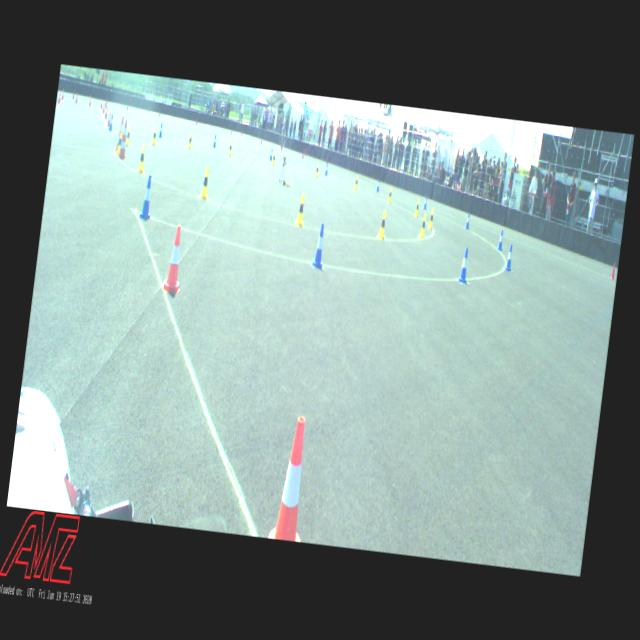blue_cone: (138, 175, 154, 219), (312, 222, 326, 268), (458, 247, 470, 283), (504, 244, 514, 272), (496, 230, 504, 250), (108, 114, 114, 130), (422, 195, 428, 209), (465, 212, 470, 228), (158, 122, 163, 137), (376, 178, 380, 192), (212, 134, 216, 147), (324, 163, 328, 175), (270, 148, 272, 159)
large_orange_cone: (118, 117, 130, 158), (115, 115, 124, 152)
orange_cone: (268, 414, 315, 541), (162, 224, 188, 294), (106, 110, 111, 126), (103, 106, 108, 119), (58, 90, 62, 102), (88, 96, 92, 106), (61, 88, 64, 100), (102, 101, 105, 112), (74, 94, 78, 102), (100, 98, 102, 108)
unknown_cone: (610, 262, 615, 280), (104, 100, 108, 108)
yellow_cone: (295, 194, 306, 226), (200, 167, 210, 199), (137, 144, 147, 174), (378, 210, 387, 239), (419, 214, 427, 238), (115, 130, 122, 154), (427, 208, 434, 229), (125, 126, 131, 146), (414, 198, 420, 216), (152, 127, 157, 144), (387, 186, 392, 202), (353, 176, 358, 190), (188, 132, 192, 148), (272, 150, 276, 166), (228, 140, 232, 154), (314, 164, 318, 178)
